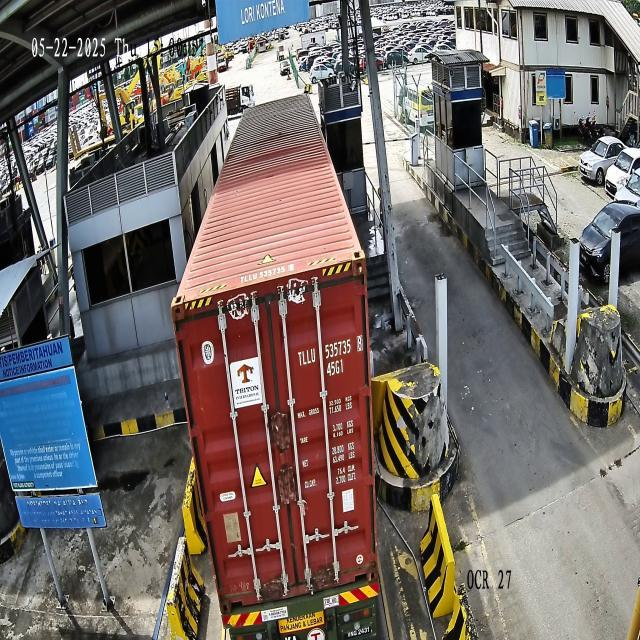ISO: (327, 359, 344, 377)
container_number: (296, 334, 364, 367)
